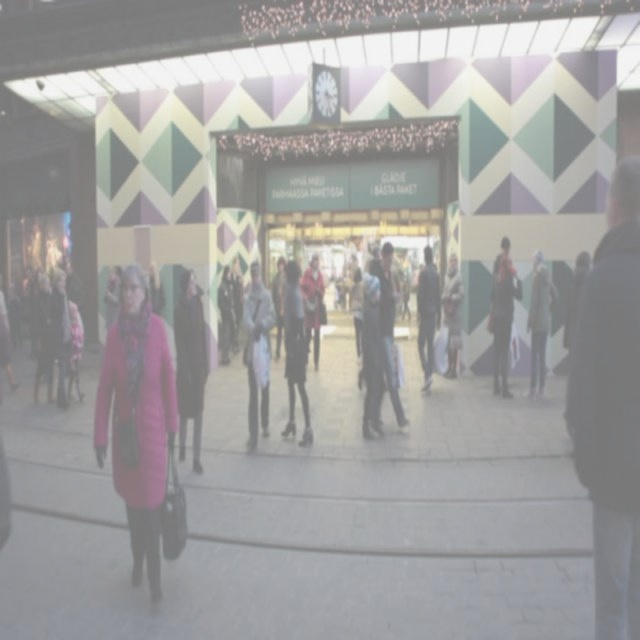pessoa: (562, 148, 640, 639), (88, 262, 188, 620), (368, 240, 412, 430), (277, 257, 317, 448), (172, 266, 208, 476), (241, 258, 277, 452), (522, 248, 560, 403), (488, 256, 526, 403), (358, 269, 388, 442), (414, 244, 442, 396), (28, 271, 58, 408), (48, 267, 72, 412), (440, 254, 468, 378), (562, 249, 592, 359), (300, 250, 326, 374), (22, 220, 64, 288), (64, 258, 86, 380), (62, 296, 86, 406), (214, 261, 237, 367), (0, 286, 21, 395), (270, 254, 288, 364), (229, 254, 246, 354), (0, 437, 12, 568), (350, 266, 364, 366), (104, 262, 122, 334), (146, 258, 166, 318), (388, 258, 402, 330), (398, 256, 412, 321), (492, 236, 511, 276), (32, 266, 44, 310), (370, 245, 382, 263)
